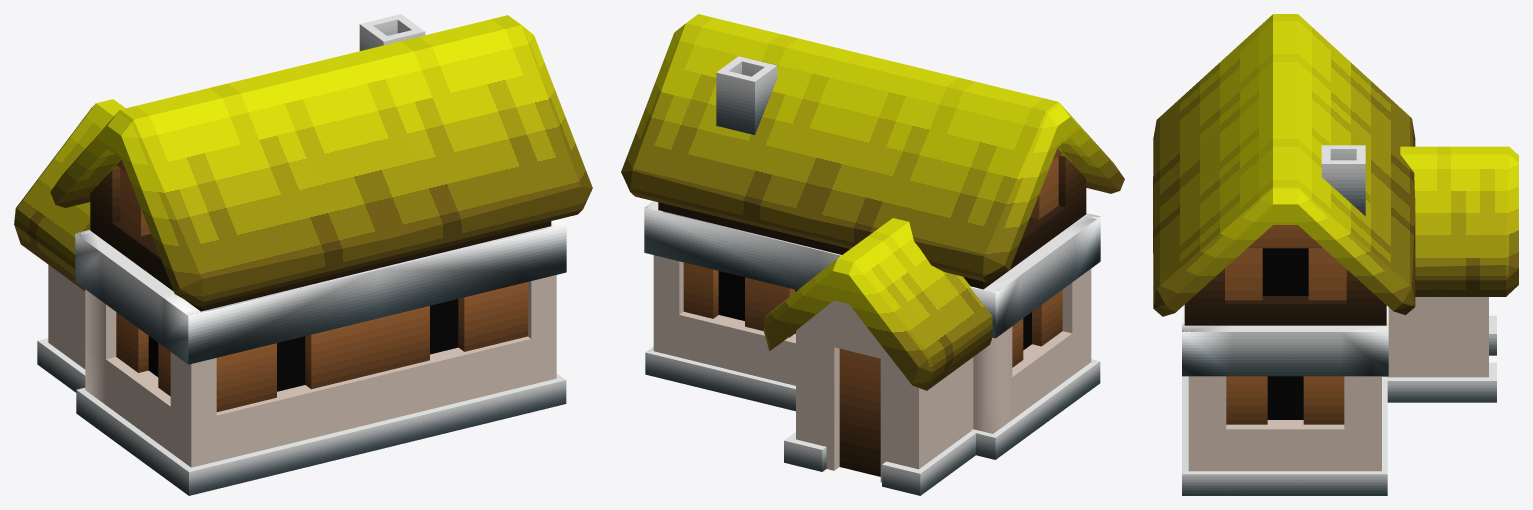
Rendered from farm_house_lvl4.fbx.
3 views of the same model, side by side, from view 1: azimuth 30°, elevation 25°; view 2: azimuth 150°, elevation 25°; view 3: azimuth 270°, elevation 25° (orthographic). The views are drawn at different scales.
Parts seen in each view (by area): view 1: farm_house_lvl4; view 2: farm_house_lvl4; view 3: farm_house_lvl4.
Part boxes in pixels (x1,y1,x2,y2): farm_house_lvl4: [14, 14, 592, 495]; farm_house_lvl4: [621, 14, 1124, 495]; farm_house_lvl4: [1153, 14, 1518, 495].
Size of the model in its own units: 1243 by 981 by 1044.
